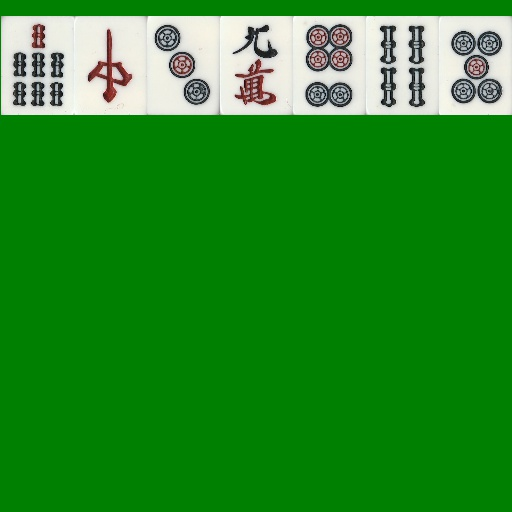3p: (147, 16, 220, 115)
4s: (366, 16, 439, 115)
5p: (439, 16, 512, 115)
6p: (293, 16, 366, 115)
7s: (1, 16, 74, 115)
9m: (220, 16, 293, 115)
tyun: (74, 16, 147, 115)
